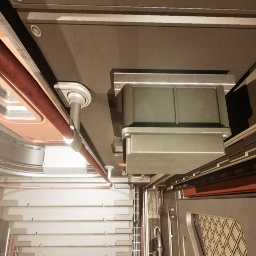FireAlarm ,: (119, 163, 126, 166)
